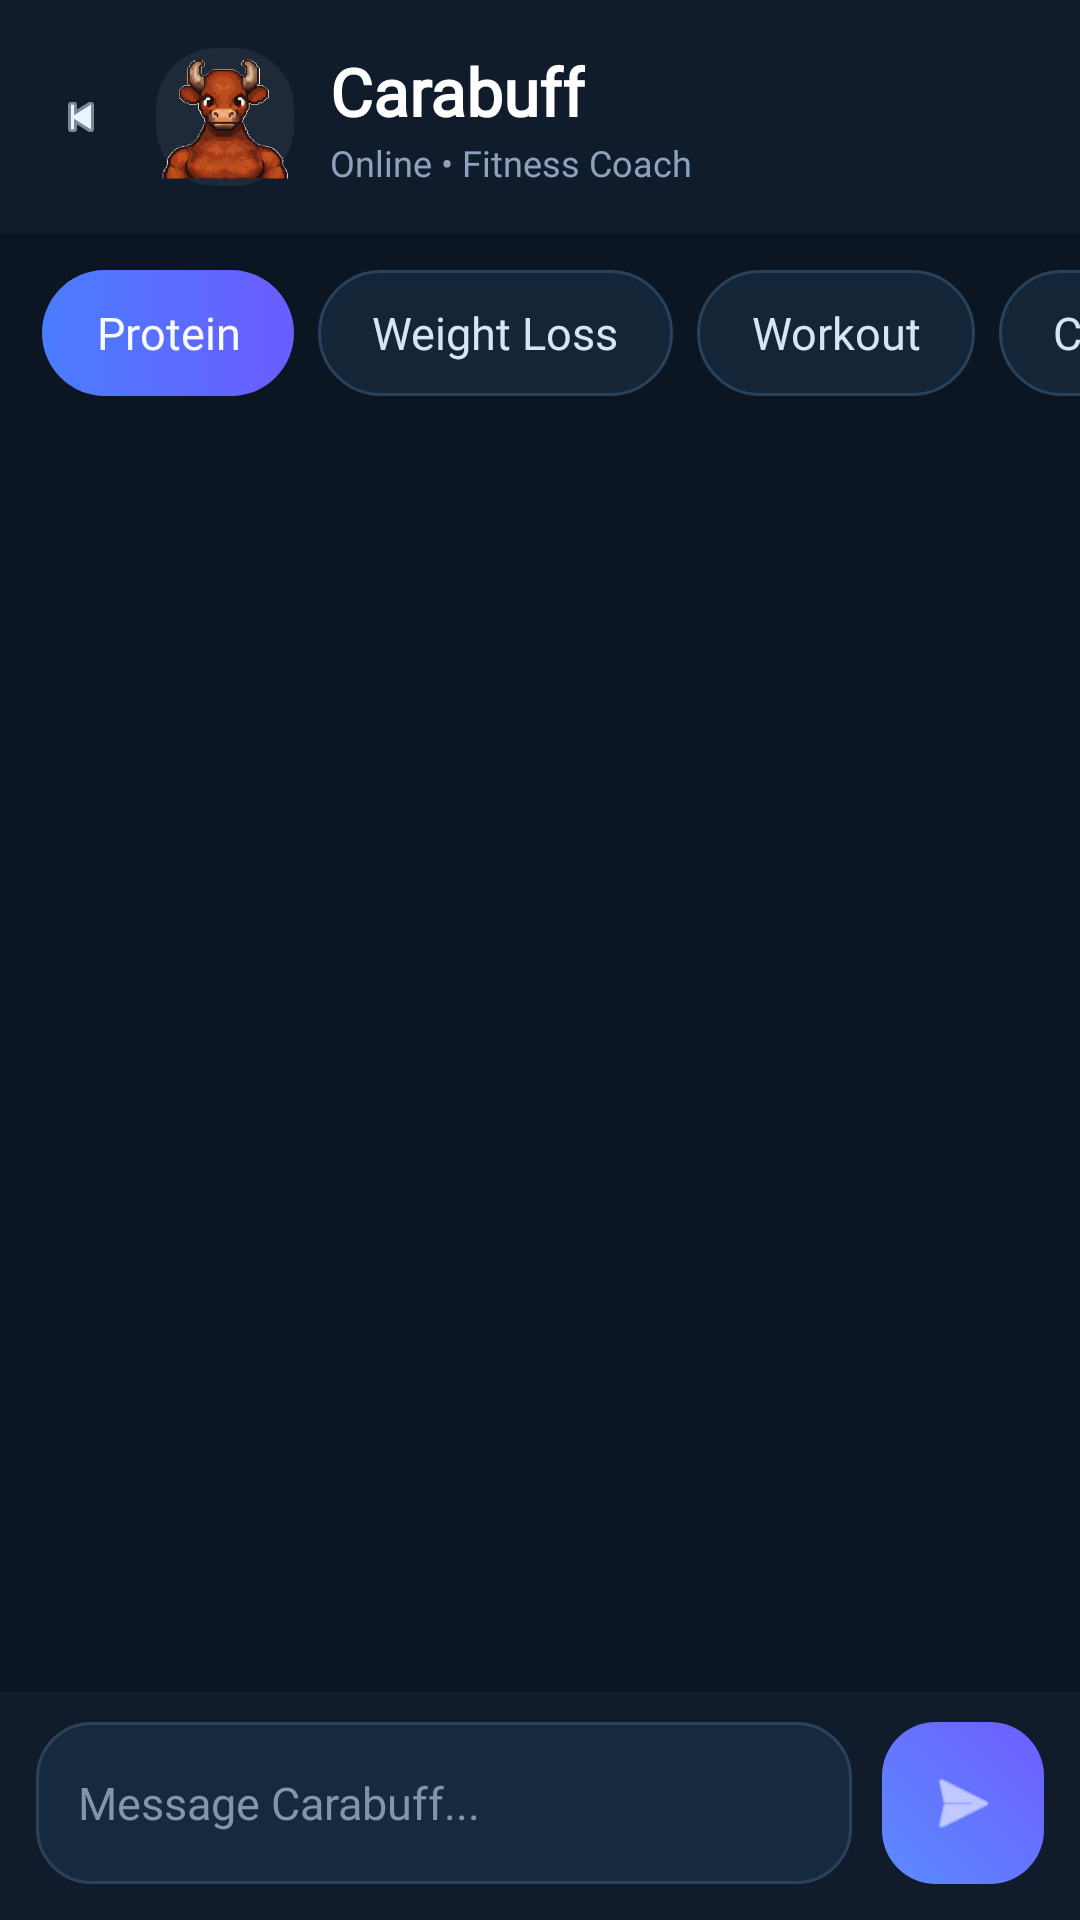

Where icons sit on this 1080w x 1920h app screen, as (x1, y1, x2, y2):
Back: (68, 102, 94, 132)
Send: (882, 1722, 1044, 1884)
